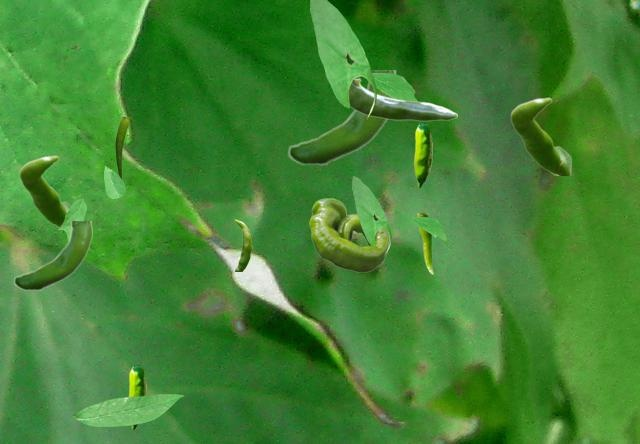green_chili: (287, 70, 396, 165), (325, 75, 456, 120), (309, 198, 388, 271), (13, 221, 91, 290), (510, 97, 570, 174), (19, 155, 70, 227), (414, 123, 431, 187), (128, 365, 145, 429), (417, 213, 432, 273), (234, 219, 251, 270), (115, 117, 128, 178)
